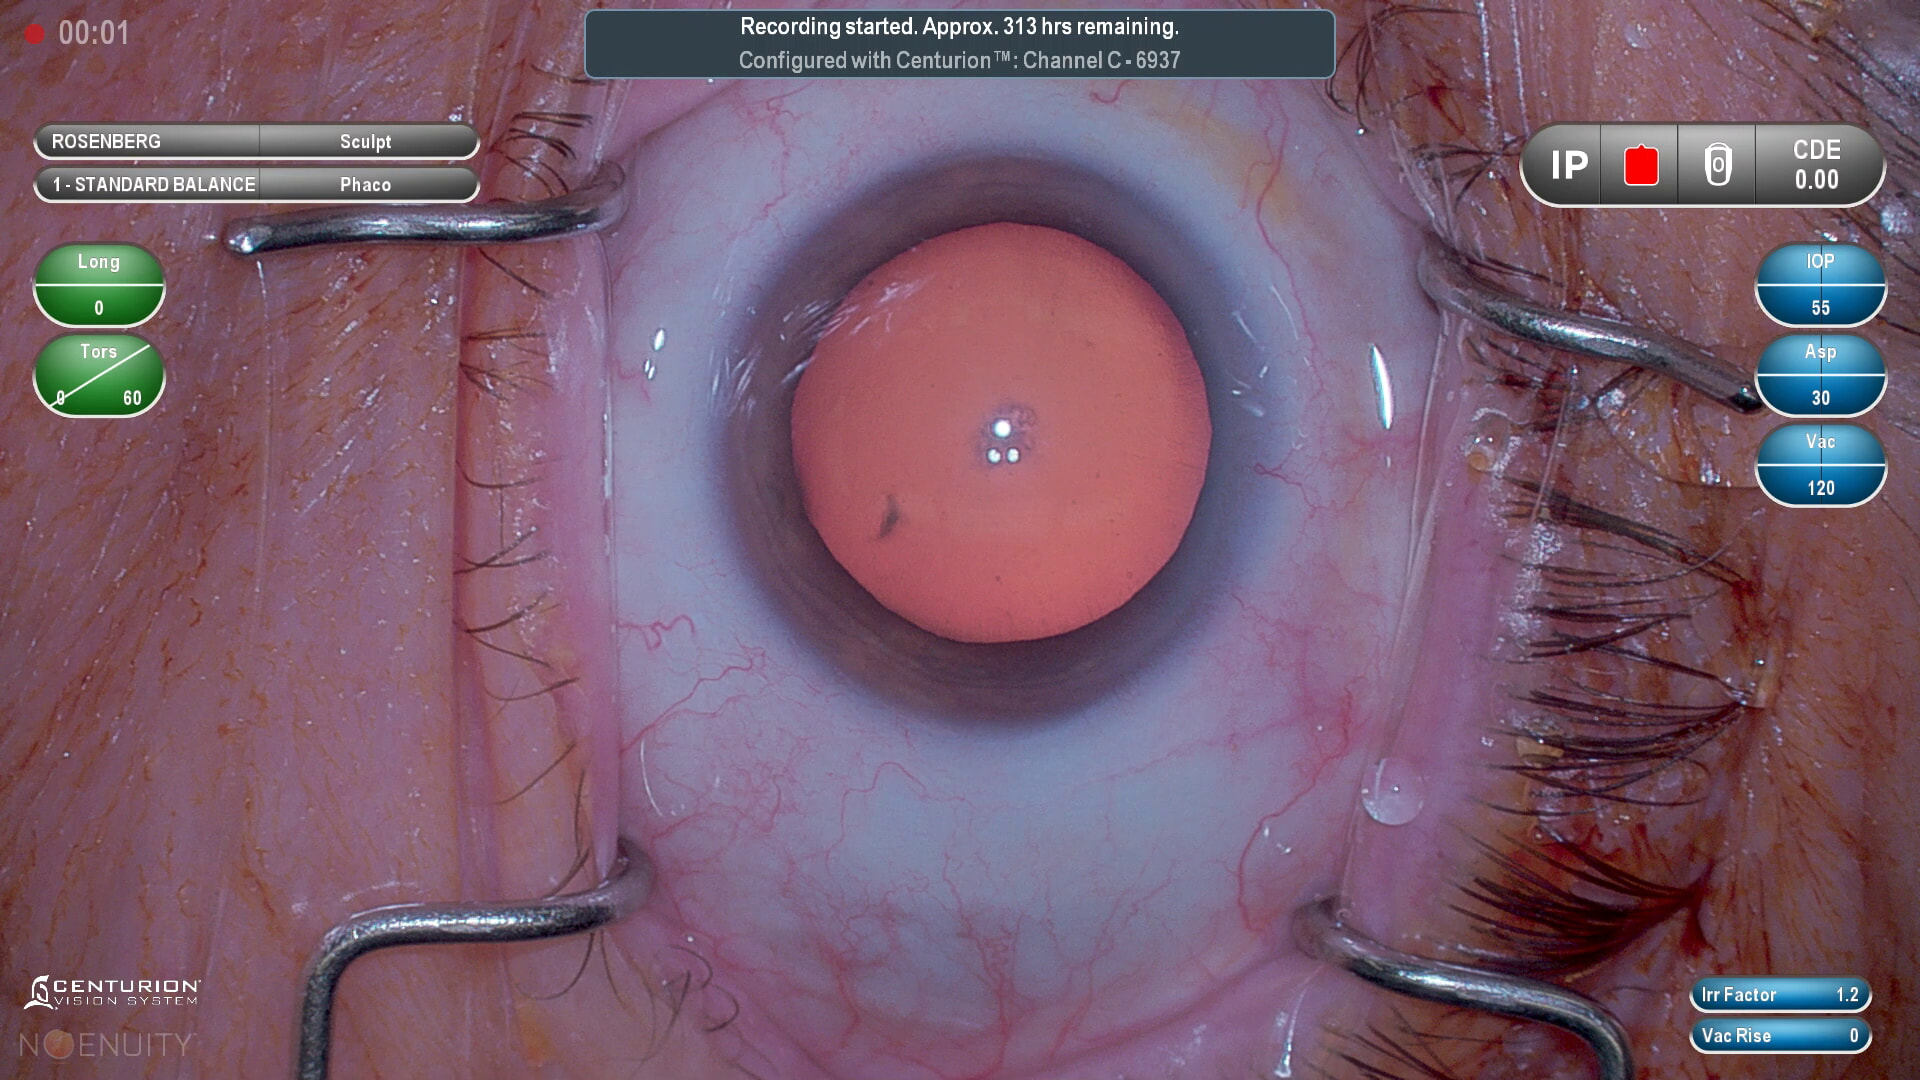iris: (722, 155, 1250, 729)
pupil: (789, 217, 1223, 651)
